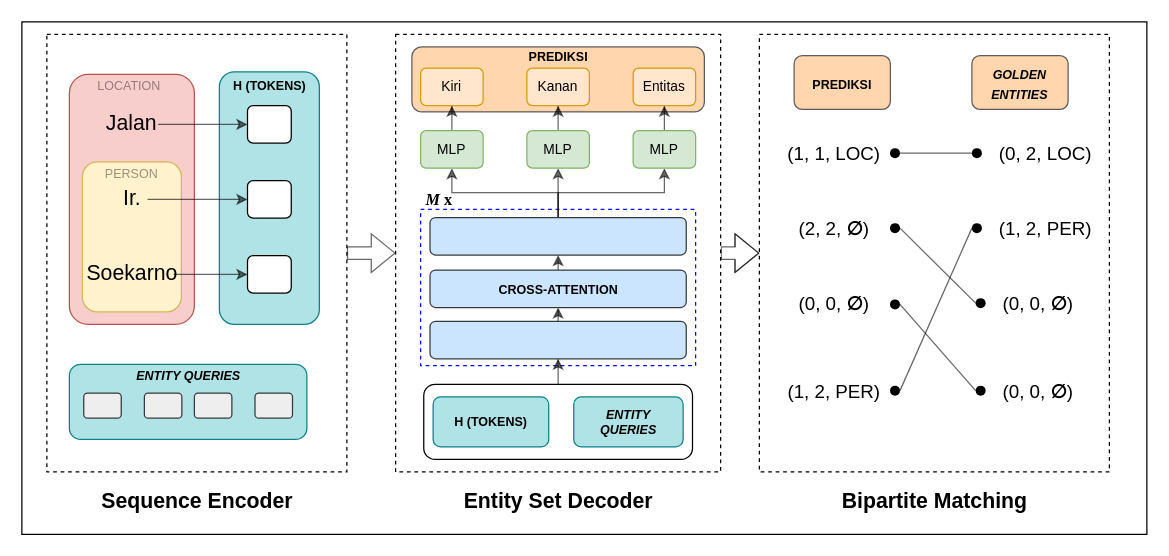
This 1169x556 diagram has some shape labels left out. The box of each missing label's shape, as (x1, y1, x2, y2) in pixels:
FEED FORWARD NETWORK: (429, 216, 686, 255)
H0: (246, 104, 291, 143)
H1: (246, 179, 291, 218)
H2: (246, 254, 291, 293)
SELF-ATTENTION: (429, 320, 686, 359)
